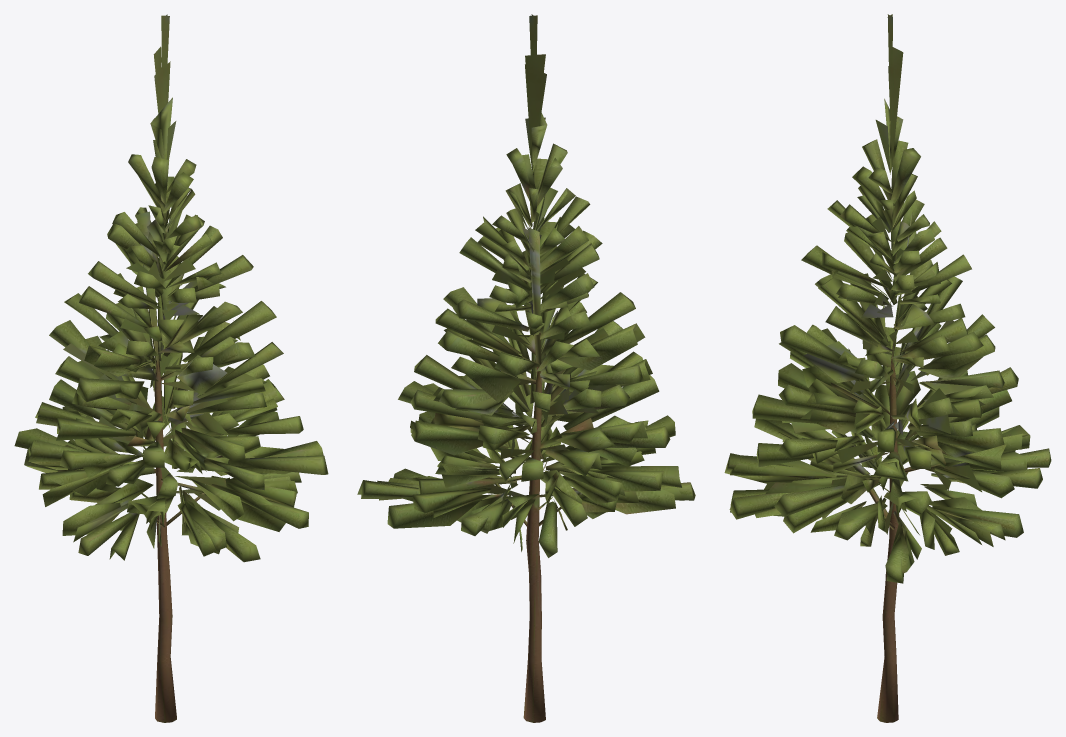
Rendered from pine-b.glb.
3 views of the same model, side by side, from view 1: azimuth 30°, elevation 25°; view 2: azimuth 150°, elevation 25°; view 3: azimuth 270°, elevation 25° (orthographic).
Size of the model in its own units: 0.3843 by 0.9507 by 0.4009.
Materials: 1 (1 with a texture image).
